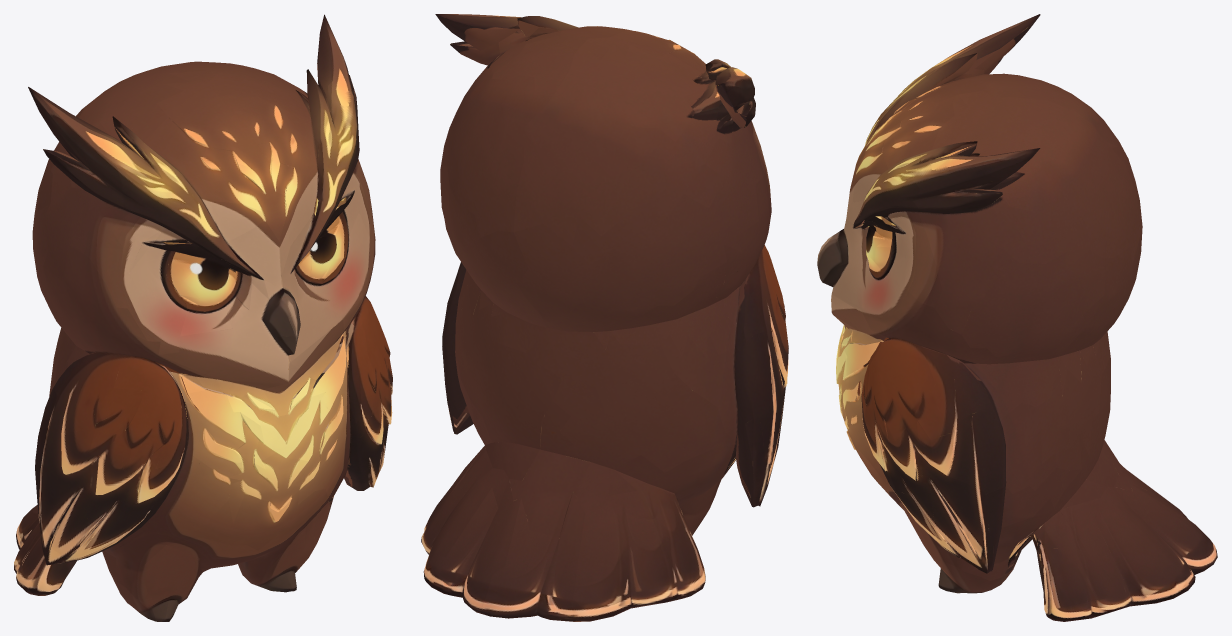
Rendered from keepy_owl_decor.glb.
3 renders of one model, left to right at view 1: azimuth 30°, elevation 25°; view 2: azimuth 150°, elevation 25°; view 3: azimuth 270°, elevation 25°, orthographic. The views are drawn at different scales.
Parts seen in each view (by area): view 1: output_unwrapped; view 2: output_unwrapped; view 3: output_unwrapped.
Boxes of the visible parts, left/top/right/bottom form: output_unwrapped: left=14, top=14, right=392, bottom=621; output_unwrapped: left=421, top=14, right=788, bottom=621; output_unwrapped: left=817, top=14, right=1217, bottom=621.
Size of the model in its own units: 1.29 by 1.9 by 1.43.
1 material, 1 textured.
